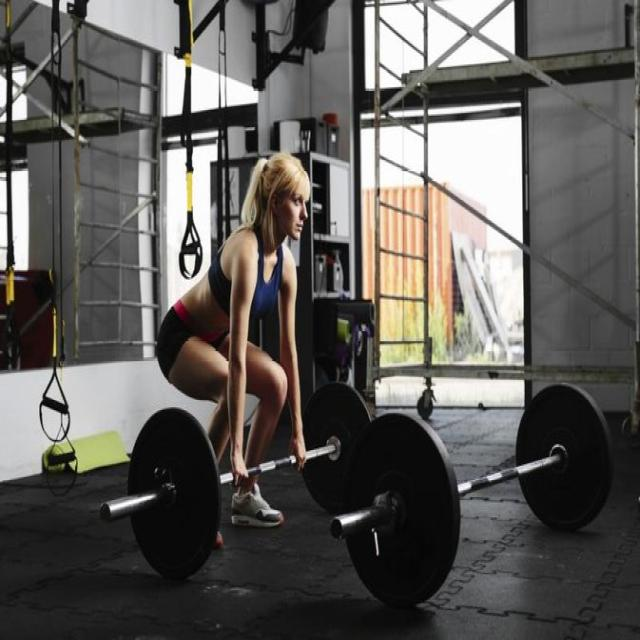deadlift: (111, 128, 378, 596)
